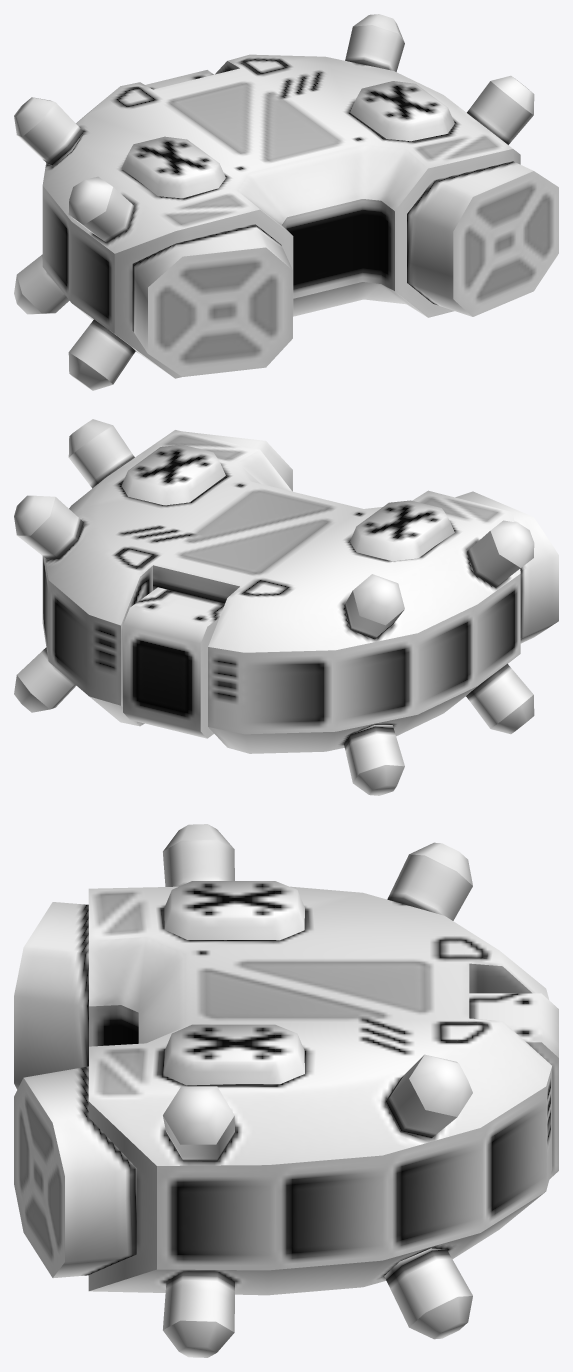
File: Enemy_Bomb.FBX
The picture shows the model from 3 angles, top to bottom: view 1: azimuth 30°, elevation 25°; view 2: azimuth 150°, elevation 25°; view 3: azimuth 270°, elevation 25°; orthographic projection. The views are drawn at different scales.
Visible parts, largest first — view 1: Enemy_Bomb, Enemy_Bomb_Up_Gun, Enemy_Bomb_Up_Speed, Enemy_Bomb_Up_Armor; view 2: Enemy_Bomb, Enemy_Bomb_Up_Speed, Enemy_Bomb_Up_Armor, Enemy_Bomb_Up_Gun; view 3: Enemy_Bomb, Enemy_Bomb_Up_Gun, Enemy_Bomb_Up_Speed, Enemy_Bomb_Up_Armor.
Part boxes in pixels (x1,y1,x2,y2): Enemy_Bomb: (42, 54, 520, 378); Enemy_Bomb_Up_Gun: (132, 161, 558, 376); Enemy_Bomb_Up_Speed: (14, 14, 534, 390); Enemy_Bomb_Up_Armor: (121, 81, 454, 198); Enemy_Bomb: (42, 430, 520, 753); Enemy_Bomb_Up_Speed: (14, 419, 534, 795); Enemy_Bomb_Up_Armor: (121, 444, 454, 561); Enemy_Bomb_Up_Gun: (184, 431, 558, 643); Enemy_Bomb: (88, 886, 558, 1295); Enemy_Bomb_Up_Gun: (14, 902, 136, 1278); Enemy_Bomb_Up_Speed: (163, 824, 472, 1357); Enemy_Bomb_Up_Armor: (164, 881, 304, 1085).
Bounding box in the file's own units: 149 × 67.04 × 119.
